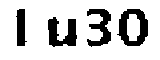0: (118, 6, 149, 48)
3: (83, 5, 113, 50)
l: (14, 8, 38, 57)
u: (44, 17, 80, 50)
